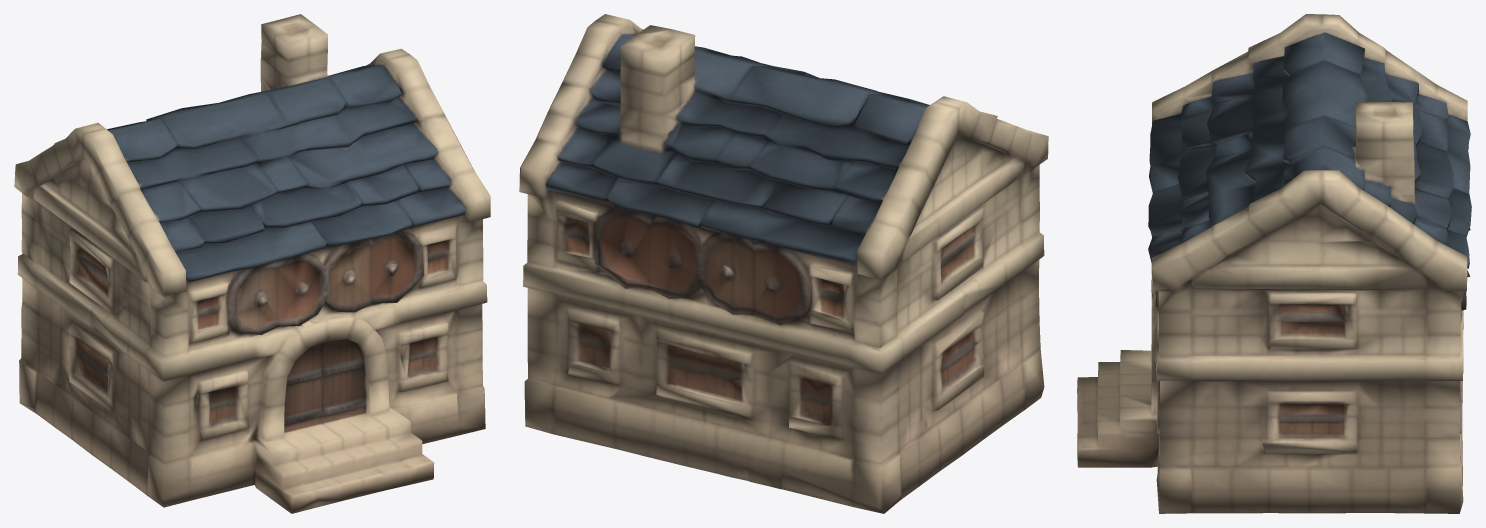
The model's file is barracks.glb.
3 renders of one model, left to right at view 1: azimuth 30°, elevation 25°; view 2: azimuth 150°, elevation 25°; view 3: azimuth 270°, elevation 25°, orthographic. The views are drawn at different scales.
Visible parts, largest first — view 1: geometry_0.001; view 2: geometry_0.001; view 3: geometry_0.001.
Part boxes in pixels (x1=…): geometry_0.001: x1=14, y1=14, x2=490, y2=513; geometry_0.001: x1=519, y1=14, x2=1048, y2=513; geometry_0.001: x1=1077, y1=14, x2=1471, y2=513.
Bounding box in the file's own units: 1.99 × 1.98 × 1.97.
Materials: 1 (1 with a texture image).
